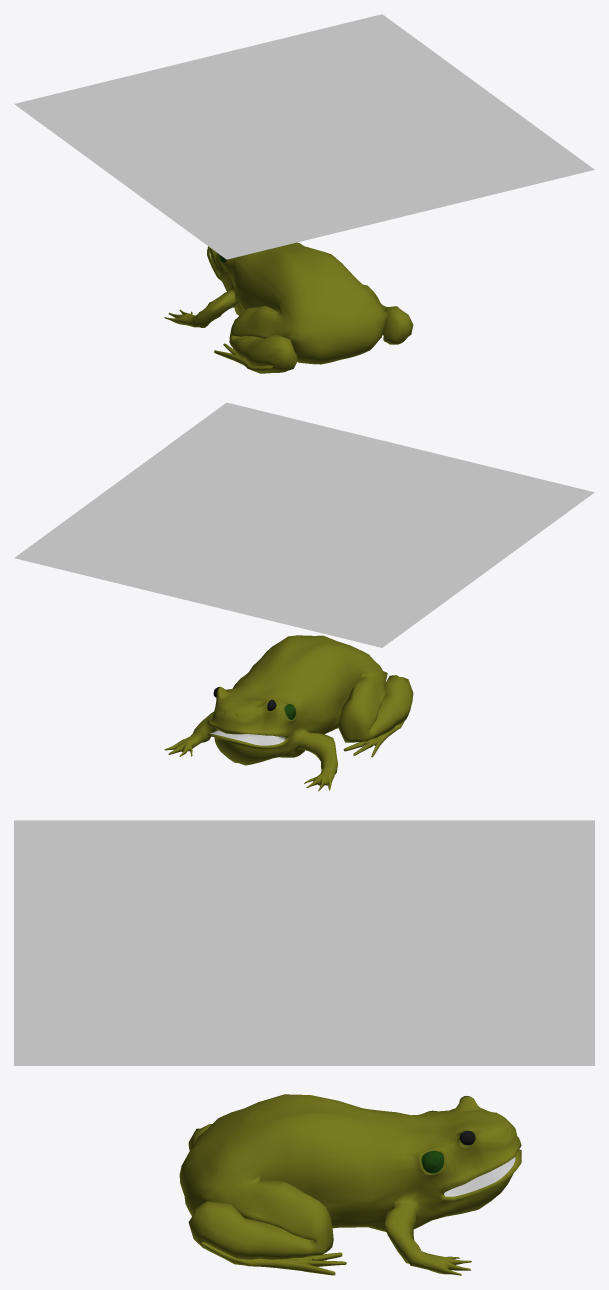
The model's file is frog1.dae.
The picture shows the model from 3 angles, top to bottom: view 1: azimuth 30°, elevation 25°; view 2: azimuth 150°, elevation 25°; view 3: azimuth 270°, elevation 25°; orthographic projection. The views are drawn at different scales.
Visible parts, largest first — view 1: Light, Frog1; view 2: Light, Frog1; view 3: Light, Frog1.
Boxes of the visible parts, <box> form: Light: <box>14,14,594,259</box>; Frog1: <box>164,242,413,373</box>; Light: <box>14,402,594,647</box>; Frog1: <box>164,635,413,791</box>; Light: <box>14,820,594,1065</box>; Frog1: <box>179,1094,521,1275</box>.
Size of what is drawn, in the model's own units: 21.16 by 21.16 by 11.25.
